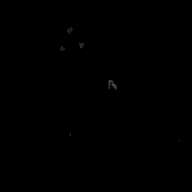v: (59, 26, 84, 51)
